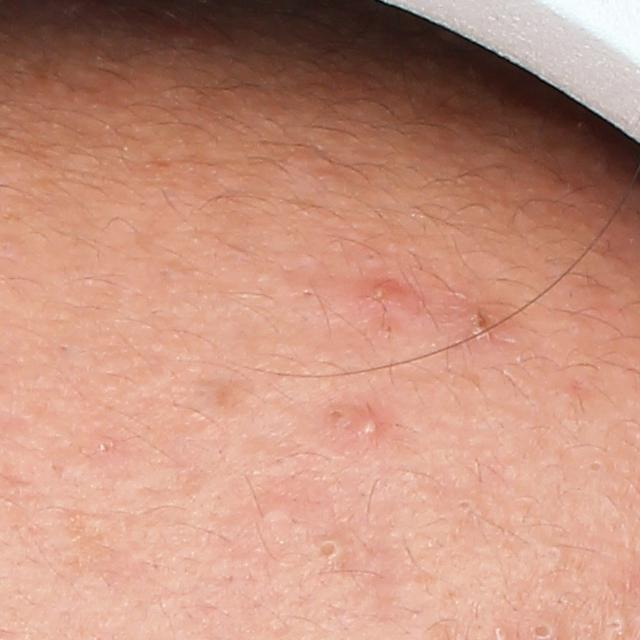comedo: (260, 503, 295, 528), (317, 536, 339, 561), (98, 441, 113, 455)
papule: (362, 280, 419, 317)
